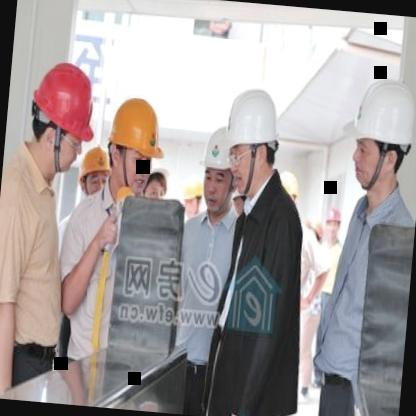helmet: (348, 74, 416, 202), (23, 59, 98, 171), (220, 82, 284, 200), (106, 89, 168, 196), (198, 125, 240, 213), (76, 146, 112, 206), (142, 150, 178, 209), (174, 169, 207, 229), (320, 202, 344, 245)
